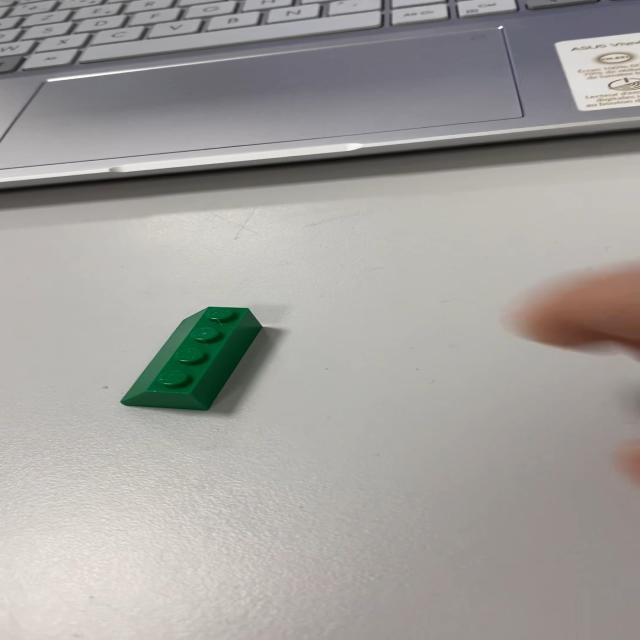P4x2x1: (120, 305, 264, 411)
